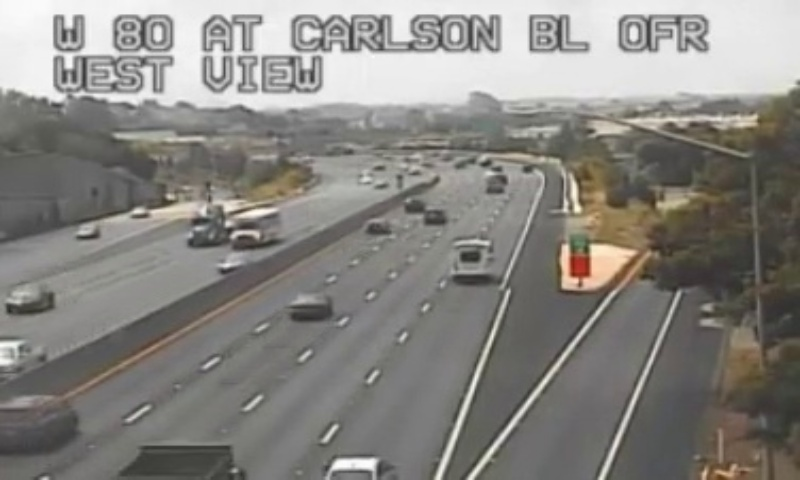bus: (448, 238, 493, 279)
car: (2, 396, 76, 451), (287, 294, 331, 319)
